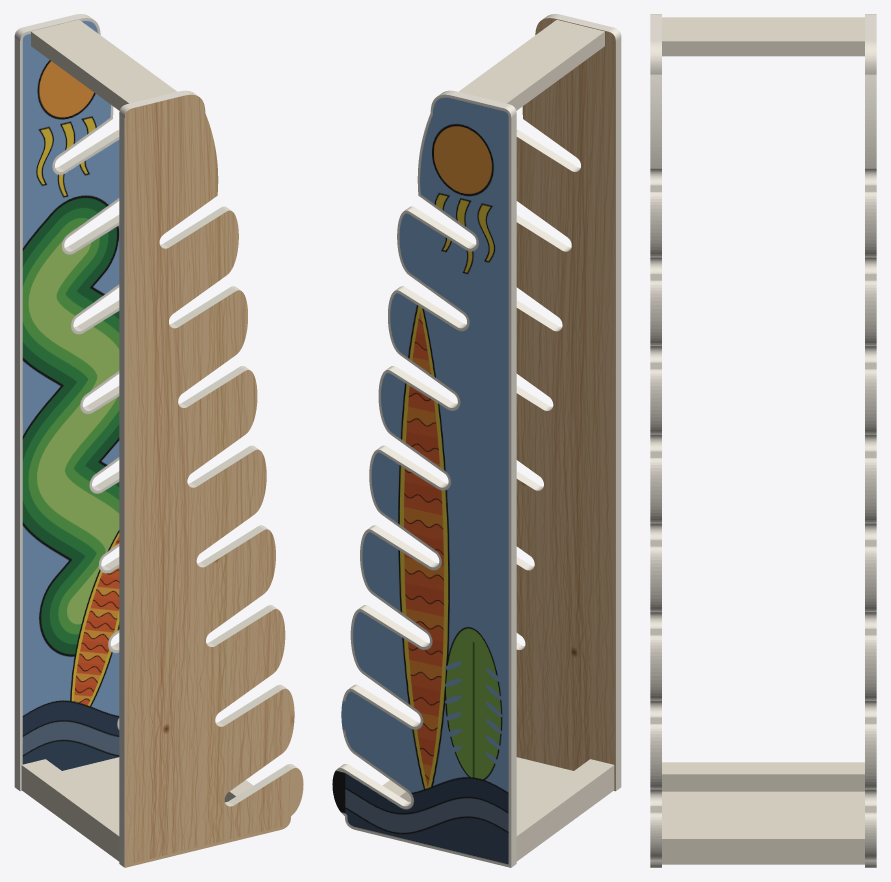
File: meuble-skate.glb
3 renders of one model, left to right at view 1: azimuth 30°, elevation 25°; view 2: azimuth 150°, elevation 25°; view 3: azimuth 270°, elevation 25°, orthographic. The views are drawn at different scales.
Visible parts, largest first — view 1: panneau-pin, panneau-peint, panneau-pin-chant, panneau-peint-chant, traverse-haut, traverse-bas-arriere, fond; view 2: panneau-peint, panneau-pin, panneau-peint-chant, panneau-pin-chant, traverse-haut, traverse-bas-arriere, fond; view 3: panneau-peint-chant, panneau-pin-chant, traverse-haut, traverse-bas-avant, fond, traverse-bas-arriere.
Part boxes in pixels (bbox=[...]): panneau-pin: bbox=[125, 94, 303, 867]; panneau-peint: bbox=[20, 18, 119, 791]; panneau-pin-chant: bbox=[119, 90, 297, 867]; panneau-peint-chant: bbox=[14, 14, 119, 790]; traverse-haut: bbox=[31, 20, 177, 110]; traverse-bas-arriere: bbox=[21, 759, 119, 861]; fond: bbox=[62, 757, 119, 812]; panneau-peint: bbox=[332, 94, 510, 867]; panneau-pin: bbox=[516, 18, 615, 791]; panneau-peint-chant: bbox=[338, 90, 516, 867]; panneau-pin-chant: bbox=[516, 14, 621, 790]; traverse-haut: bbox=[458, 20, 604, 110]; traverse-bas-arriere: bbox=[516, 759, 614, 861]; fond: bbox=[516, 757, 573, 812]; panneau-peint-chant: bbox=[865, 14, 876, 867]; panneau-pin-chant: bbox=[650, 14, 661, 867]; traverse-haut: bbox=[662, 17, 864, 56]; traverse-bas-avant: bbox=[662, 826, 864, 864]; fond: bbox=[662, 791, 864, 826]; traverse-bas-arriere: bbox=[662, 762, 864, 791].
Size of the model in its own units: 0.3331 by 1.35 by 0.3564.
Materials: 5 (3 with a texture image).
